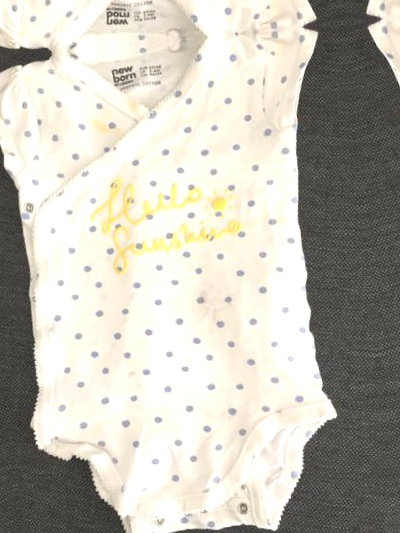Body: (0, 29, 371, 533), (0, 0, 318, 57), (368, 0, 400, 519), (0, 66, 23, 533), (315, 0, 400, 15), (24, 532, 400, 533)
